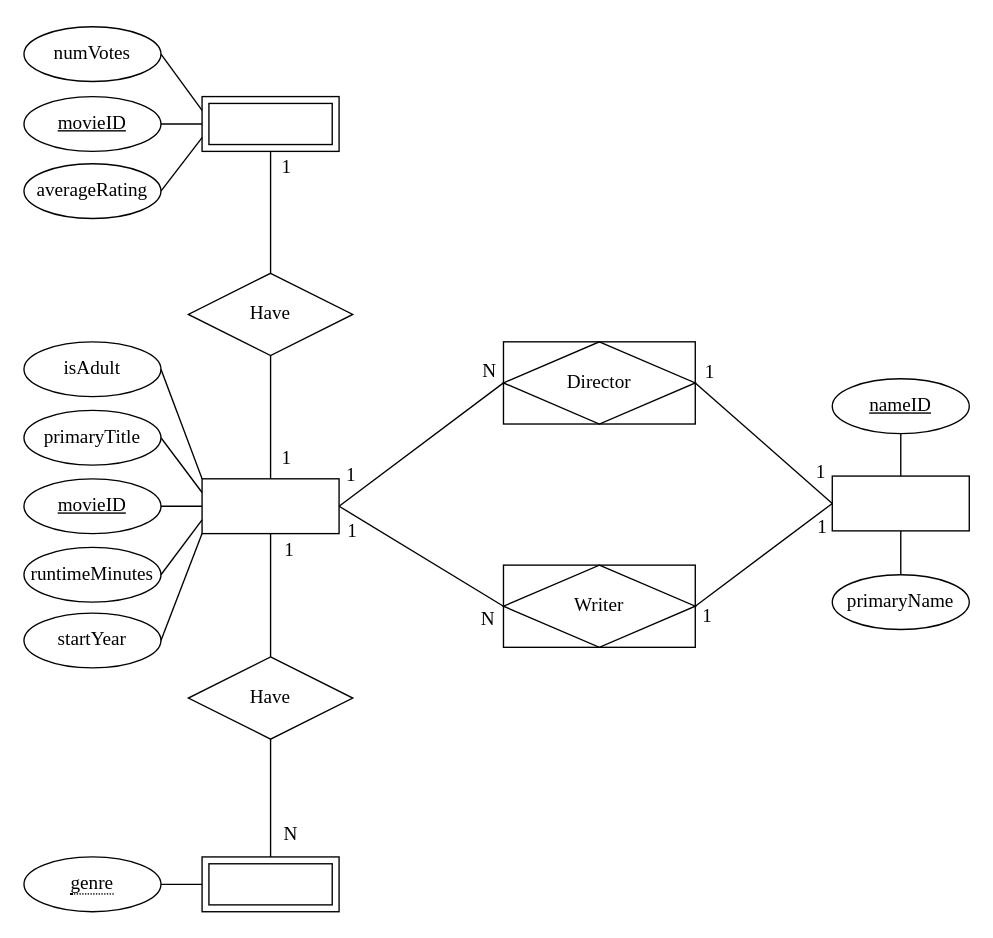
Image size: 993x938. Some labels were removed from this diagram. Here are the shapes that lost their labels. From the top down, the centre of each, then its label:
point (270, 123): Rating
point (270, 505): Movies
point (900, 503): Names
point (270, 884): Genres
